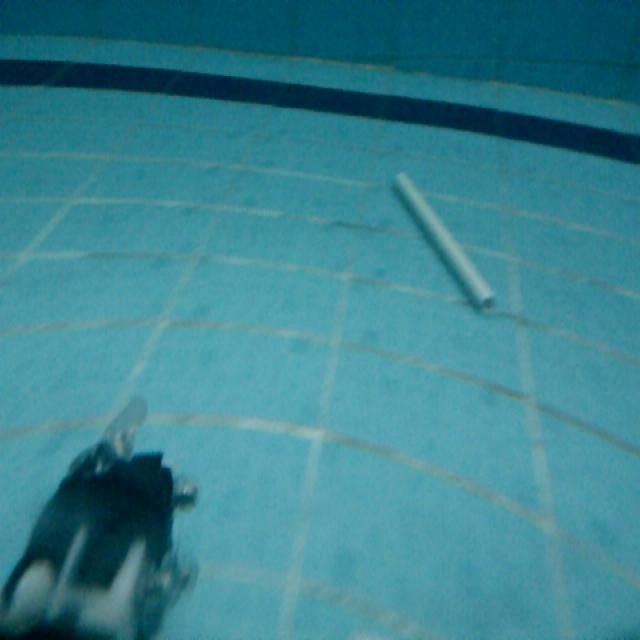Cube: (393, 166, 500, 318)
